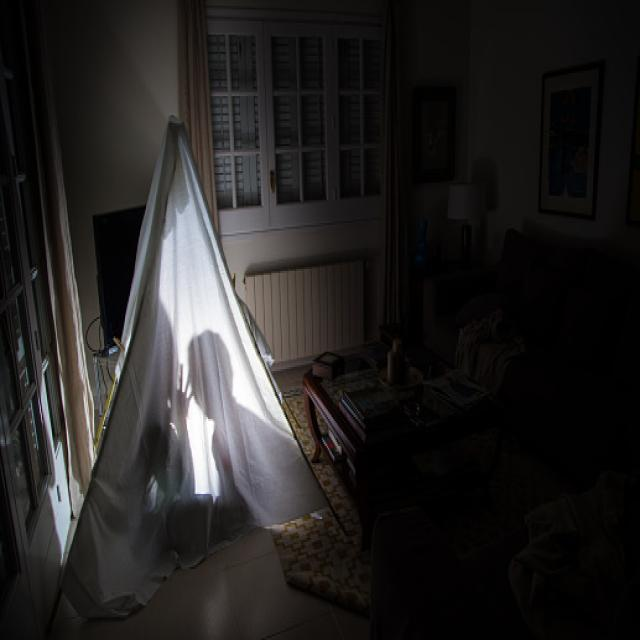People: (102, 279, 199, 521), (184, 311, 254, 476)
Table: (297, 312, 501, 550)
